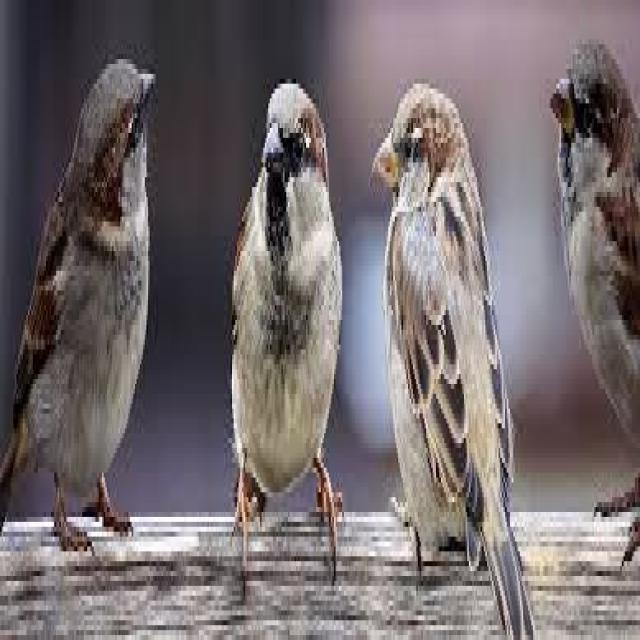bird: (370, 80, 536, 640), (4, 51, 144, 570), (233, 77, 344, 568)
